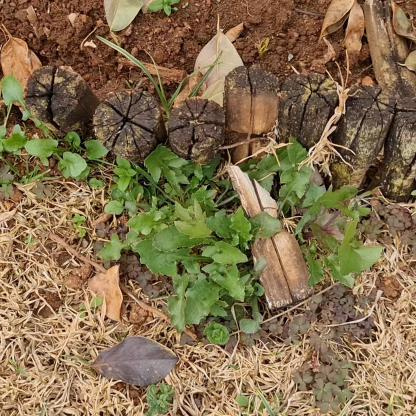Weeds: (2, 72, 384, 345)
